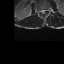CCS_normal: (42, 8, 44, 16)
LFS_stenosis: (46, 8, 47, 12)
LLS_normal: (44, 8, 46, 13)
RFS_stenosis: (38, 8, 40, 13)
RLS_normal: (40, 8, 42, 13)
